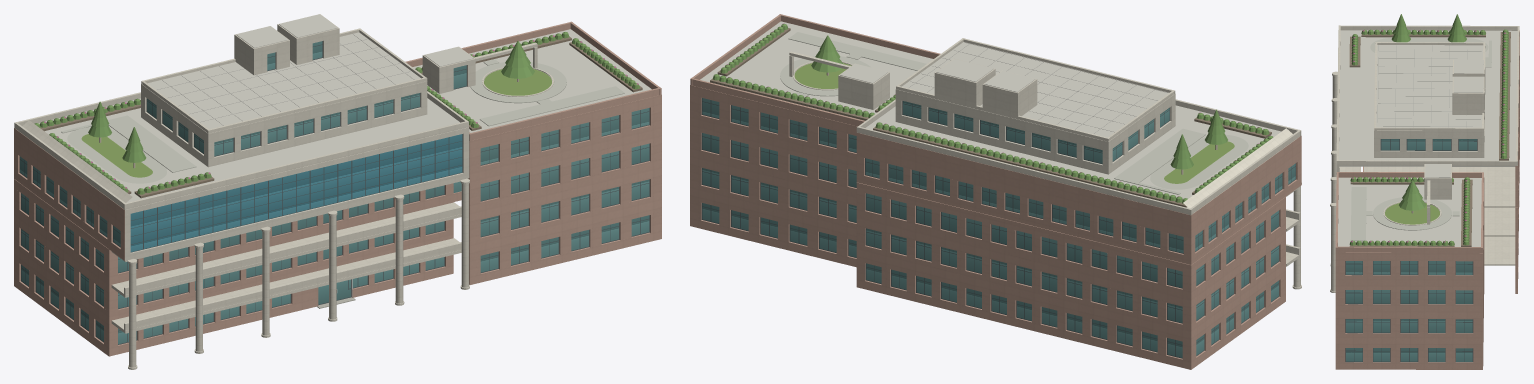
3 views of the same model, side by side, from view 1: azimuth 30°, elevation 25°; view 2: azimuth 150°, elevation 25°; view 3: azimuth 270°, elevation 25° (orthographic). The views are drawn at different scales.
Parts seen in each view (by area): view 1: mainLecture__pink-wall, lecture1-open-colonnade__mainLecture__light-stone, mainLecture__roof, mainLecture__pale-glass, mainLecture__blue-glass, mainLecture__frame, mainLecture__garden-path, mainLecture__foliage, mainLecture__grass, mainLecture__roof-seams, mainLecture__soil; view 2: mainLecture__pink-wall, mainLecture__pale-glass, lecture1-open-colonnade__mainLecture__light-stone, mainLecture__roof, mainLecture__frame, mainLecture__foliage, mainLecture__garden-path, mainLecture__soil, mainLecture__grass, mainLecture__roof-seams; view 3: mainLecture__roof, mainLecture__pink-wall, lecture1-open-colonnade__mainLecture__light-stone, mainLecture__pale-glass, mainLecture__foliage, mainLecture__garden-path, mainLecture__soil, mainLecture__frame, mainLecture__roof-seams, mainLecture__grass, mainLecture__flowers.
Part boxes in pixels (x1,y1,x2,y2): mainLecture__pink-wall: [14, 21, 661, 356]; lecture1-open-colonnade__mainLecture__light-stone: [14, 14, 553, 369]; mainLecture__roof: [38, 14, 651, 202]; mainLecture__pale-glass: [20, 41, 649, 344]; mainLecture__blue-glass: [130, 134, 462, 251]; mainLecture__frame: [19, 41, 649, 344]; mainLecture__garden-path: [61, 59, 624, 183]; mainLecture__foliage: [34, 32, 639, 194]; mainLecture__grass: [81, 69, 551, 177]; mainLecture__roof-seams: [157, 34, 414, 125]; mainLecture__soil: [39, 34, 642, 198]; mainLecture__pink-wall: [690, 14, 1301, 369]; mainLecture__pale-glass: [702, 98, 1295, 357]; lecture1-open-colonnade__mainLecture__light-stone: [789, 38, 1301, 289]; mainLecture__roof: [700, 21, 1281, 207]; mainLecture__frame: [701, 98, 1295, 358]; mainLecture__foliage: [712, 24, 1273, 203]; mainLecture__garden-path: [780, 32, 1248, 194]; mainLecture__soil: [710, 28, 1271, 207]; mainLecture__grass: [794, 63, 1234, 183]; mainLecture__roof-seams: [908, 42, 1168, 133]; mainLecture__roof: [1338, 30, 1517, 246]; mainLecture__pink-wall: [1335, 30, 1519, 369]; lecture1-open-colonnade__mainLecture__light-stone: [1330, 25, 1519, 292]; mainLecture__pale-glass: [1346, 139, 1476, 361]; mainLecture__foliage: [1349, 14, 1508, 245]; mainLecture__garden-path: [1350, 38, 1491, 241]; mainLecture__soil: [1349, 31, 1510, 246]; mainLecture__frame: [1345, 139, 1477, 362]; mainLecture__roof-seams: [1377, 45, 1481, 127]; mainLecture__grass: [1385, 203, 1439, 224]; mainLecture__flowers: [1351, 30, 1505, 242].
Bounding box in the file's own units: 56.45 × 22.12 × 21.34.
15 materials, 5 textured.
